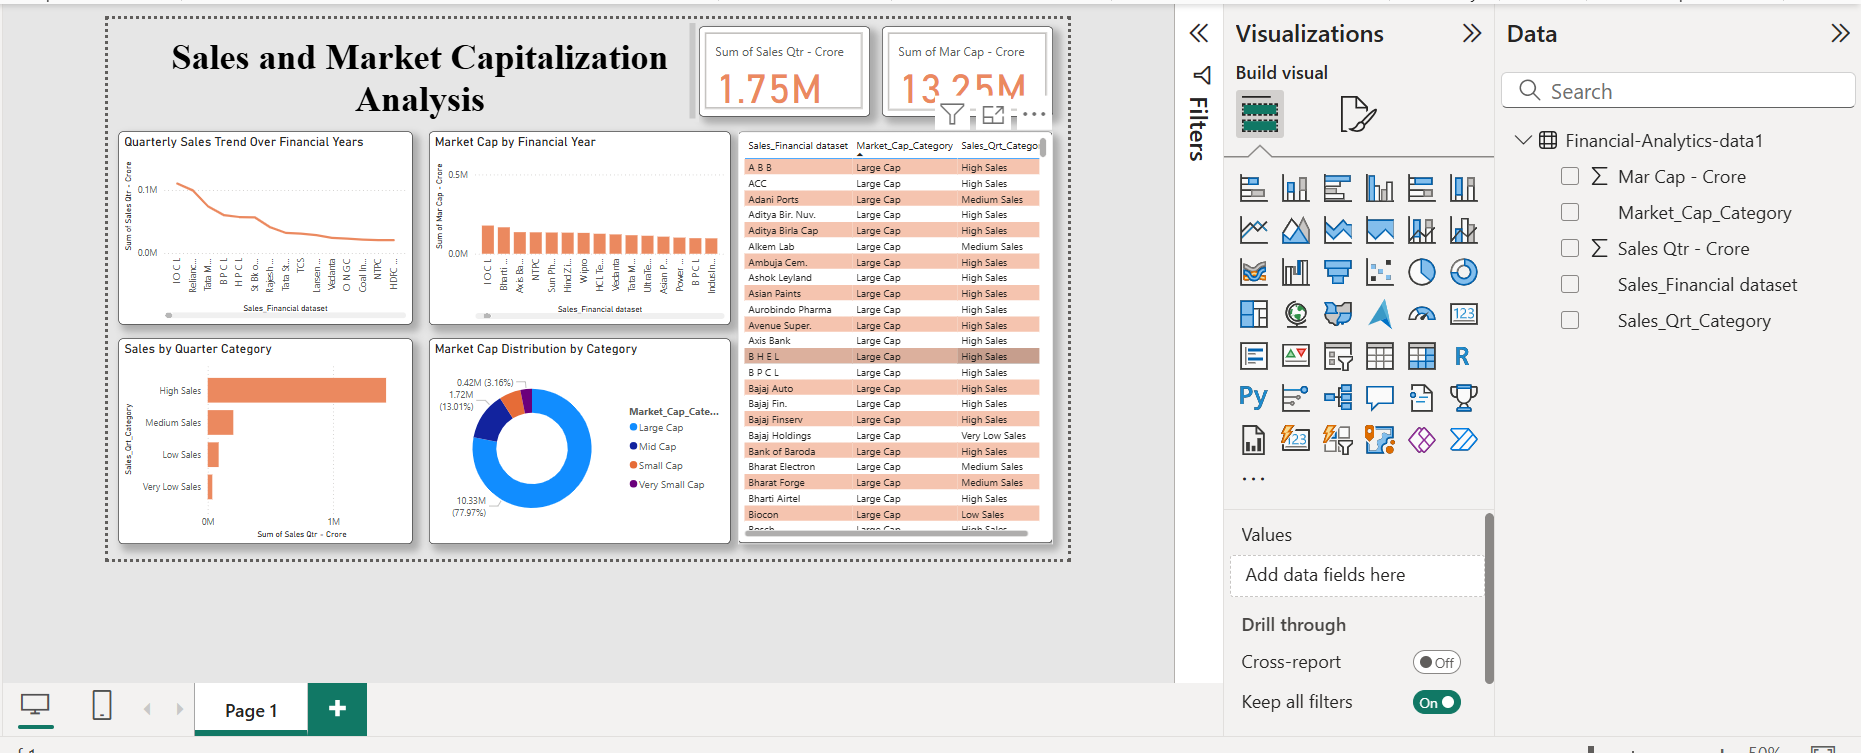

The dashboard page shown, as its layout file describes it:
{"tool":"powerbi","page":{"name":"Page 1","canvas":[1280,720],"ordinal":0},"visuals":[{"type":"cardVisual","title":"Total Market Cap","fields":{"Data":["Sum(Financial-Analytics-data1.Mar Cap - Crore)"]},"box":[1032,10,228,120],"z":0},{"type":"cardVisual","title":"Total Sales","fields":{"Data":["Sum(Financial-Analytics-data1.Sales Qtr - Crore)"]},"box":[788,10,228,120],"z":1000},{"type":"lineChart","title":"Quarterly Sales Trend Over Financial Years","fields":{"Category":["Financial-Analytics-data1.Sales_Financial dataset"],"Y":["Sum(Financial-Analytics-data1.Sales Qtr - Crore)"]},"box":[14.6,150.6,391.9,257.5],"z":2000},{"type":"columnChart","title":"Market Cap by Financial Year","fields":{"Category":["Financial-Analytics-data1.Sales_Financial dataset"],"Y":["Sum(Financial-Analytics-data1.Mar Cap - Crore)"]},"box":[428,150,402,258],"z":3000},{"type":"clusteredBarChart","title":"Sales by Quarter Category","fields":{"Category":["Financial-Analytics-data1.Sales_Qrt_Category"],"Y":["Sum(Financial-Analytics-data1.Sales Qtr - Crore)"]},"box":[14,426,392,274],"z":4000},{"type":"donutChart","title":"Market Cap Distribution by Category","fields":{"Y":["Sum(Financial-Analytics-data1.Mar Cap - Crore)"],"Category":["Financial-Analytics-data1.Market_Cap_Category"]},"box":[428,426,402,274],"z":5000},{"type":"tableEx","fields":{"Values":["Financial-Analytics-data1.Sales_Financial dataset","Financial-Analytics-data1.Market_Cap_Category","Financial-Analytics-data1.Sales_Qrt_Category"]},"box":[840.4,150.6,419.4,548.9],"z":6000},{"type":"textbox","box":[52,0,736,138],"z":7000}]}

Visuals, with their boxes on the page's 1280x720 design canvas (x1, y1, x2, y2). These are canvas units, not pixel positions in the 1861x753 screenshot, which may show the page scaled, cropped or inside an application window:
"Total Market Cap" cardVisual: [1032, 10, 1260, 130]
"Total Sales" cardVisual: [788, 10, 1016, 130]
"Quarterly Sales Trend Over Financial Years" lineChart: [15, 151, 406, 408]
"Market Cap by Financial Year" columnChart: [428, 150, 830, 408]
"Sales by Quarter Category" clusteredBarChart: [14, 426, 406, 700]
"Market Cap Distribution by Category" donutChart: [428, 426, 830, 700]
tableEx - Financial-Analytics-data1.Sales_Financial dataset x Financial-Analytics-data1.Market_Cap_Category: [840, 151, 1260, 700]
textbox: [52, 0, 788, 138]
